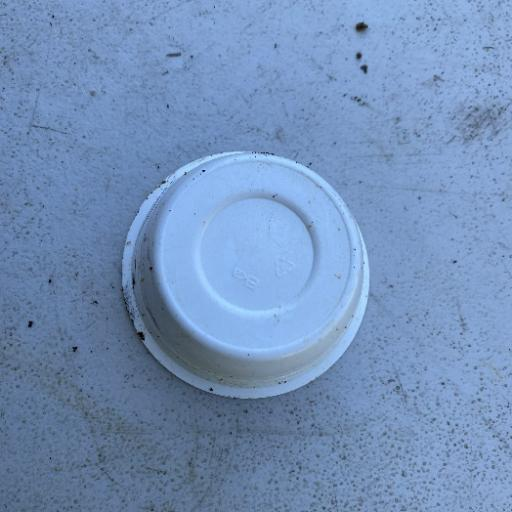Plastic: (118, 148, 373, 402)
